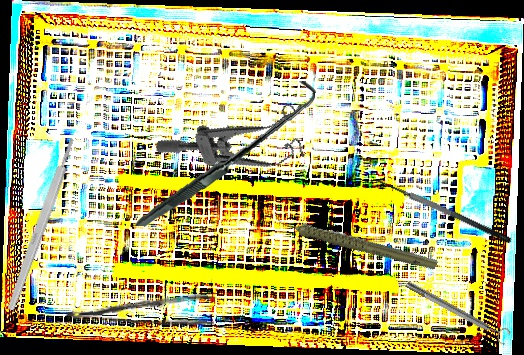Dressing Forceps: (65, 286, 216, 328)
Fixation Ring: (402, 275, 513, 347)
Handpiece: (273, 181, 439, 301)
Hook Surgical: (133, 70, 317, 238)
Scalpel Handle: (5, 137, 78, 312)
Spatula Surgical: (364, 169, 513, 256)
Speculum: (152, 90, 321, 204)
